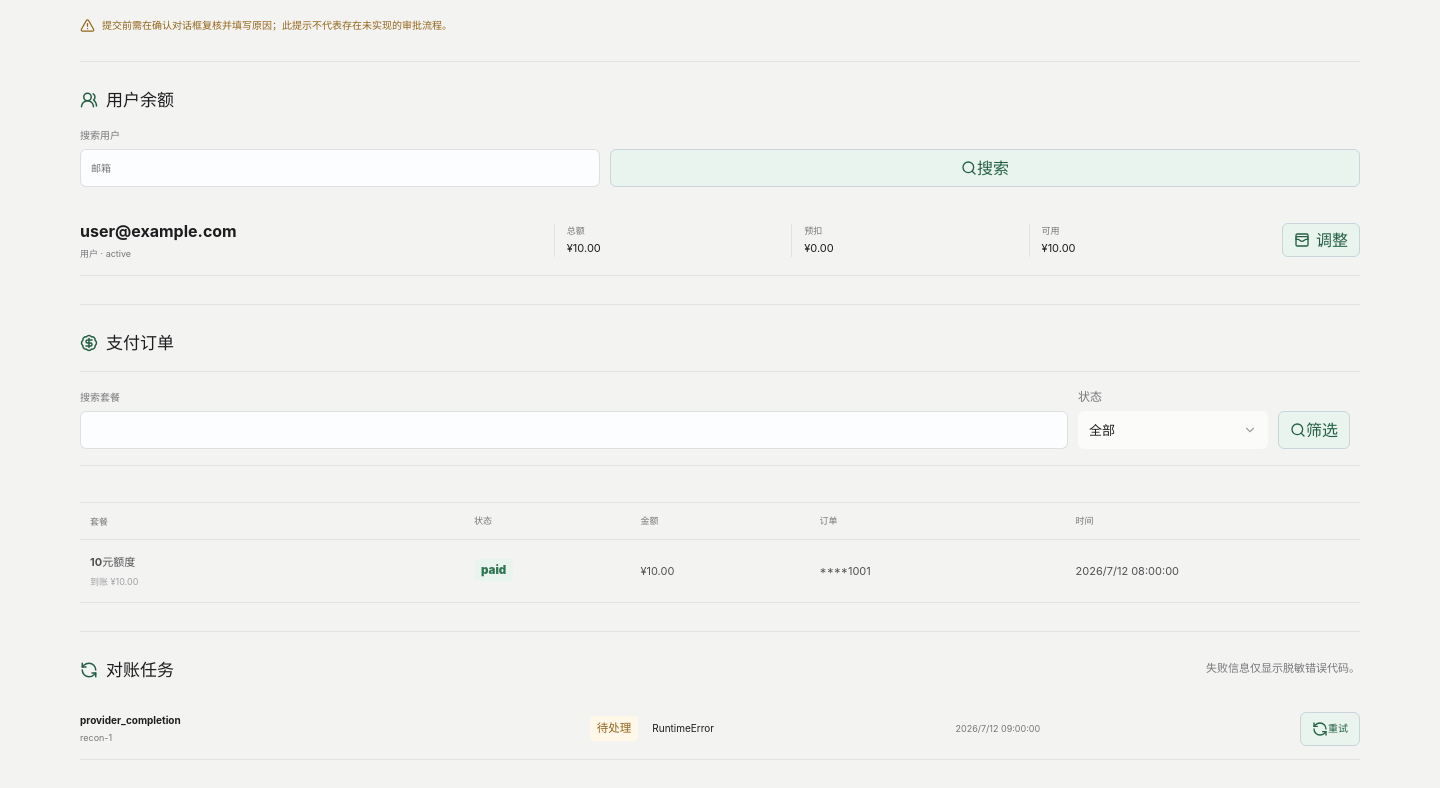
Test case: BillingAdminPage › requires a reason before scheduling reconciliation and reports failure without fake success
(page scrolled)
Click the button with aria-label "重试对账 recon-1" at x=1330, y=729, box [1300,712,1360,746]
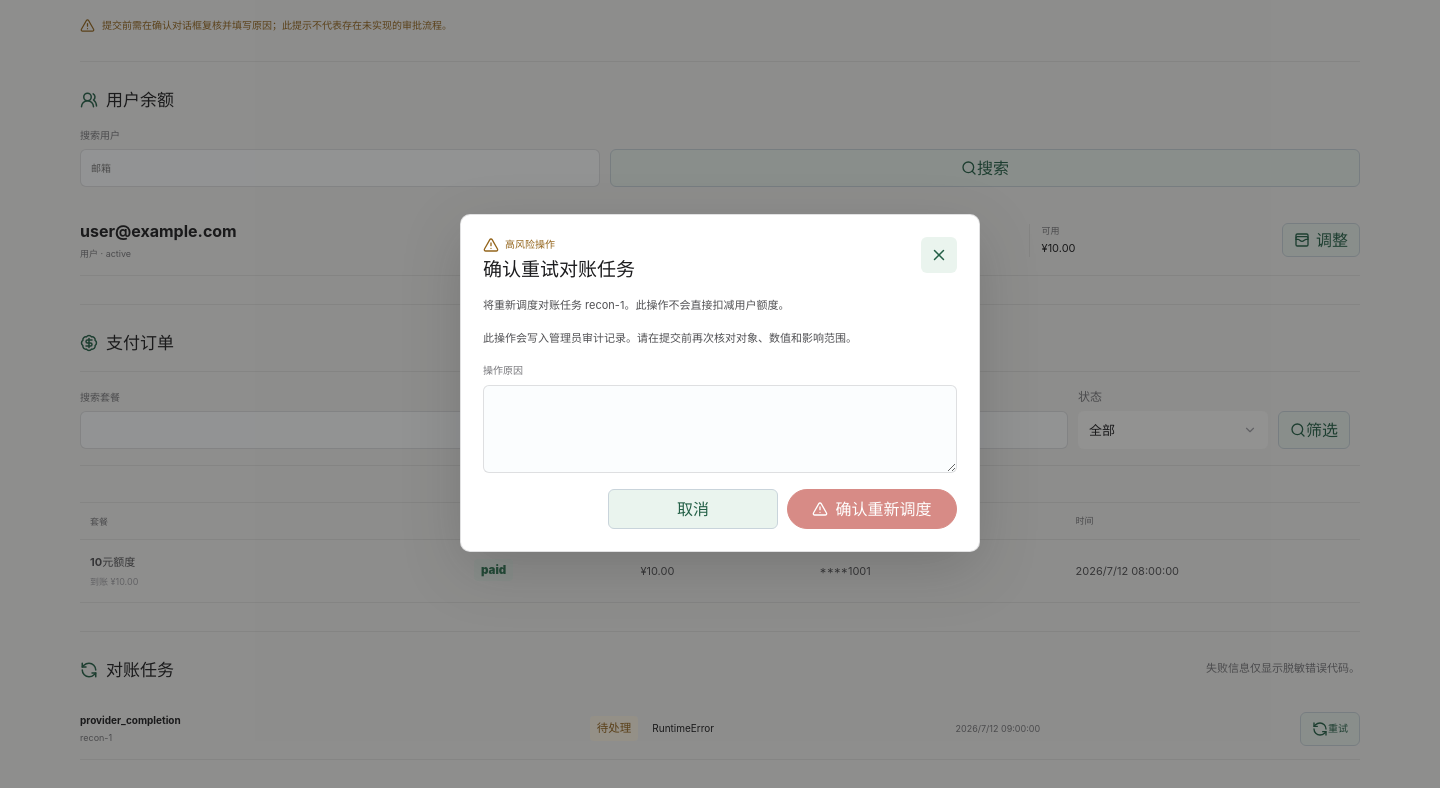
Type "人工复核" into the text box labelled "操作原因" at x=720, y=429, box [483,385,957,473]
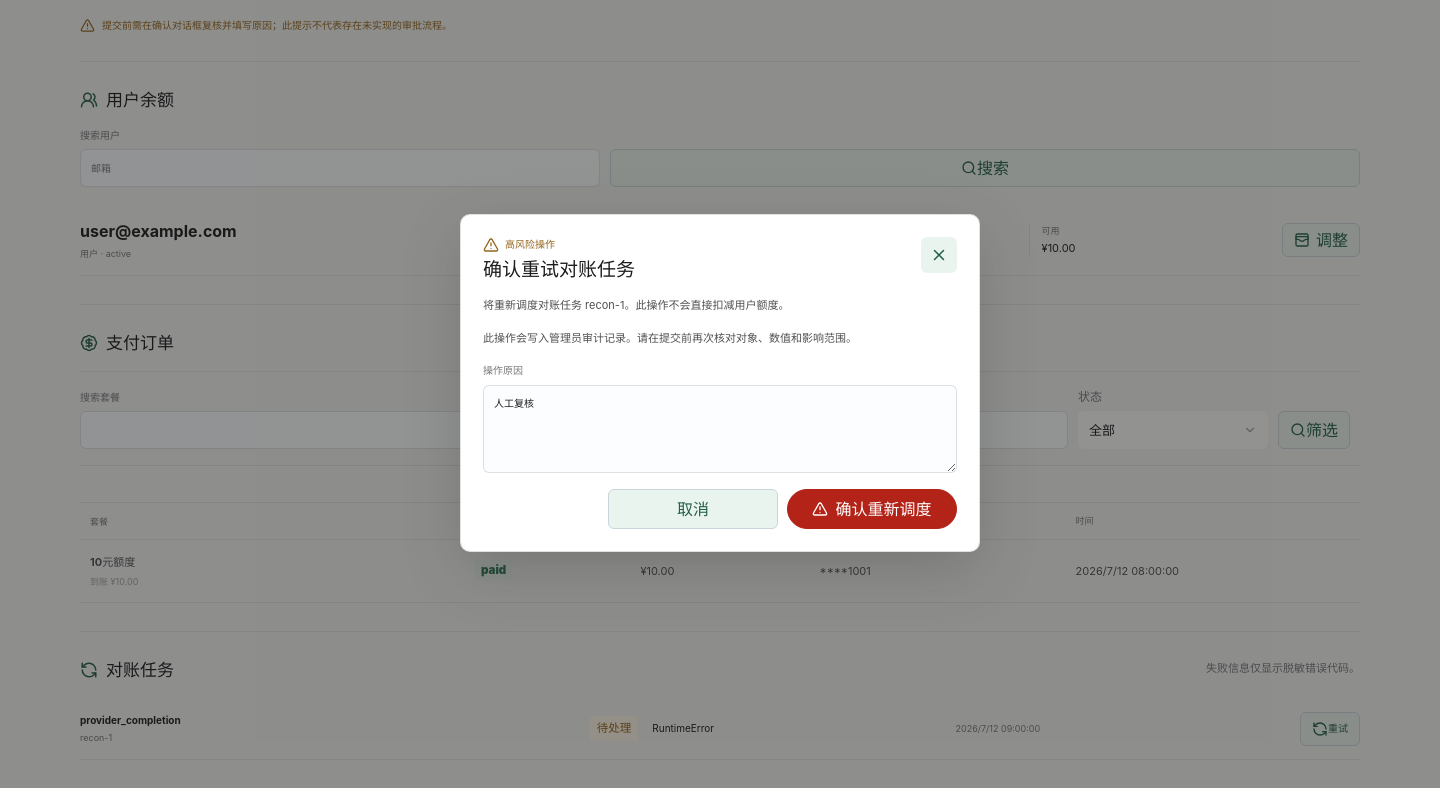
Click the button "确认重新调度" at x=872, y=509, box [787,489,957,529]
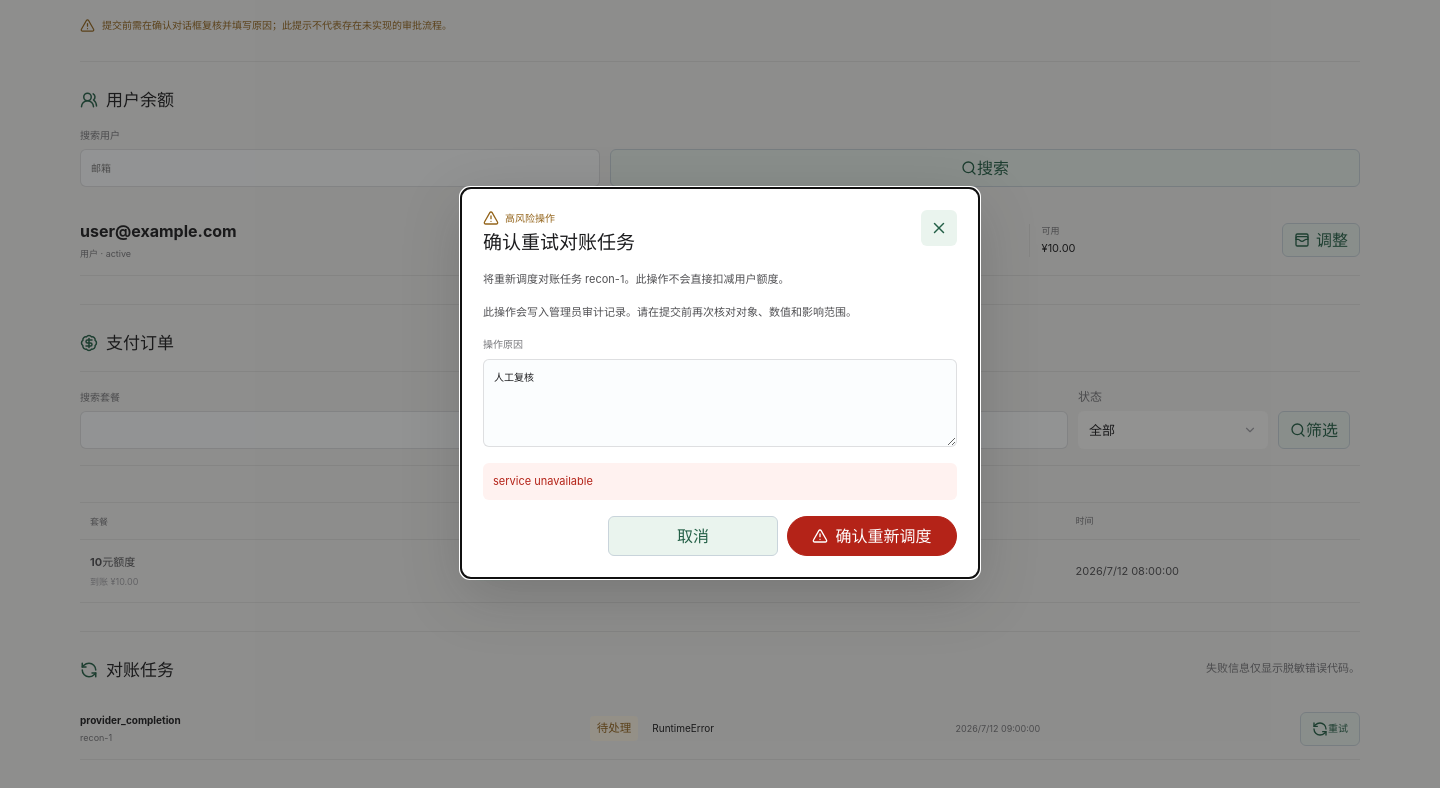
Expected: the message reads "service unavailable", [493,474,593,488]
